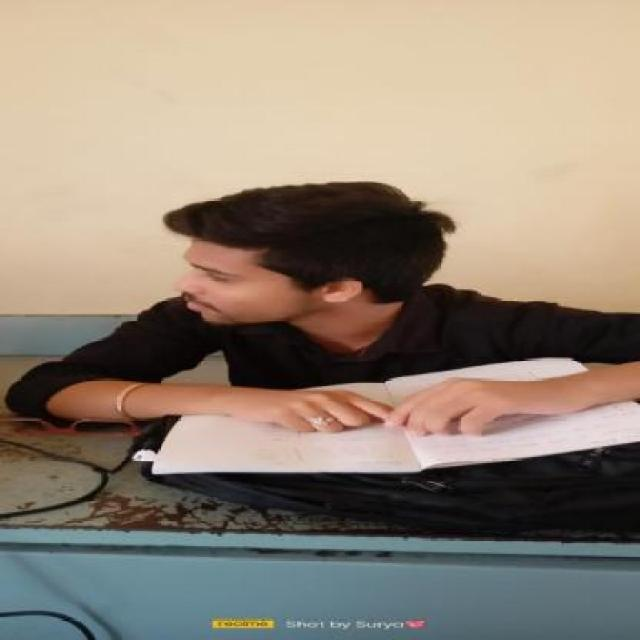cheating: (0, 172, 640, 497)
